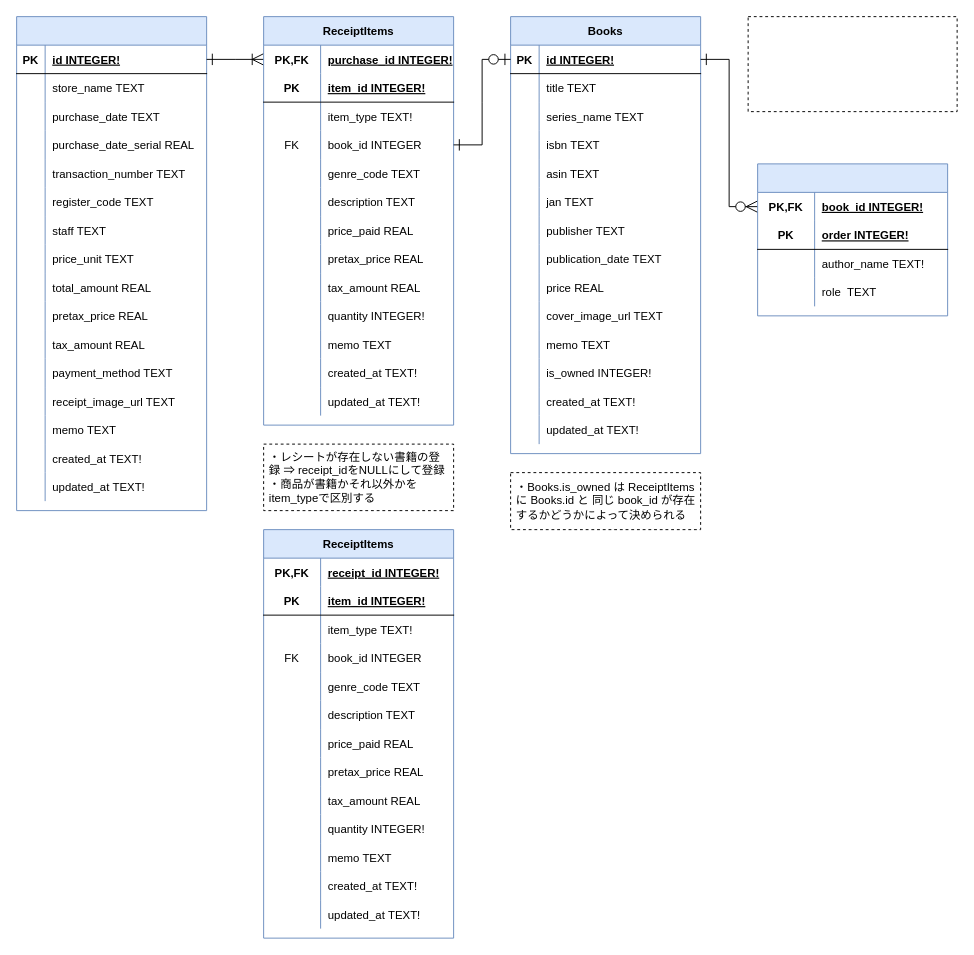
The diagram is 974 pixels wide and 955 high, and some of its shapes have lost their labels. Each missing label, with the box of its shape:
BookAuthor: (757, 163, 948, 316)
Purchases: (16, 16, 207, 511)
【データ型凡例】 TEXT: 文字列 INTEGER: 整数 REAL: 実数 NUMERIC: 汎用数値型 TYPE !: TYPE NOT NULL: (747, 16, 957, 112)
